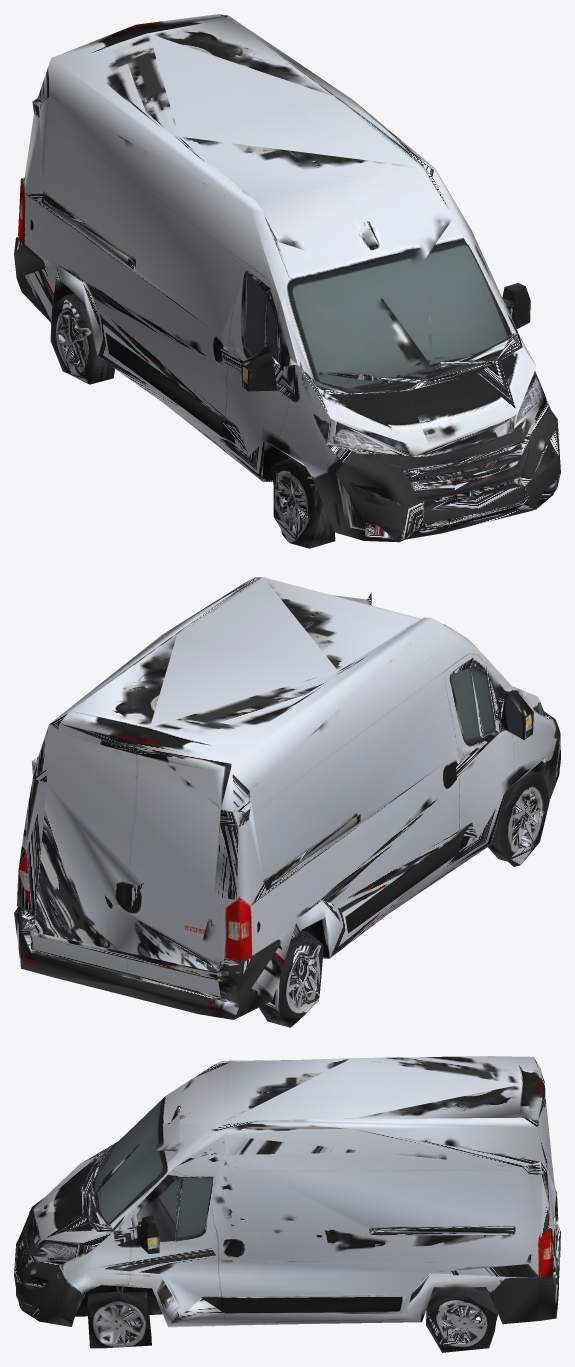
Rendered from teleopVan.glb.
3 renders of one model, top to bottom at view 1: azimuth 30°, elevation 25°; view 2: azimuth 150°, elevation 25°; view 3: azimuth 270°, elevation 25°, orthographic. The views are drawn at different scales.
Visible parts, largest first — view 1: van; view 2: van; view 3: van.
Boxes of the visible parts, box(x1,y1,x2,y2) form: van: box(14, 14, 560, 548); van: box(14, 577, 560, 1027); van: box(14, 1056, 560, 1352).
Size of the model in its own units: 2.36 by 2.36 by 5.07.
Materials: 1 (1 with a texture image).
